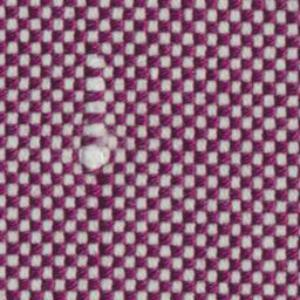defect: (75, 55, 112, 173)
